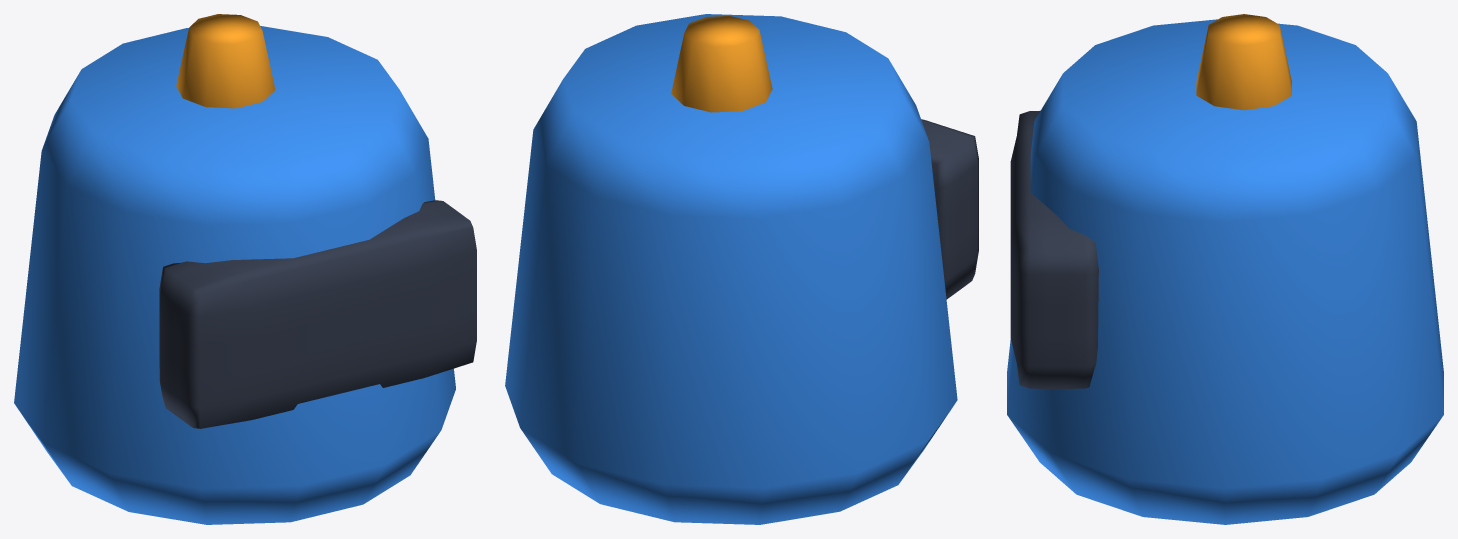
File: head_cyclops.obj
3 views of the same model, side by side, from view 1: azimuth 30°, elevation 25°; view 2: azimuth 150°, elevation 25°; view 3: azimuth 270°, elevation 25° (orthographic). The views are drawn at different scales.
Size of the model in its own units: 0.48 by 0.49 by 0.468.
